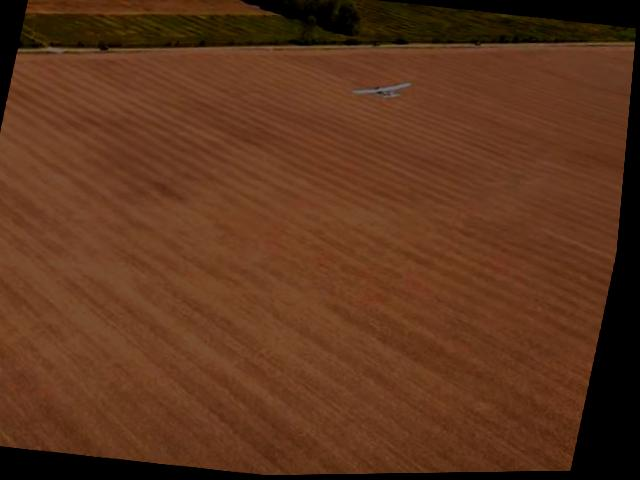iha: (352, 76, 413, 104)
